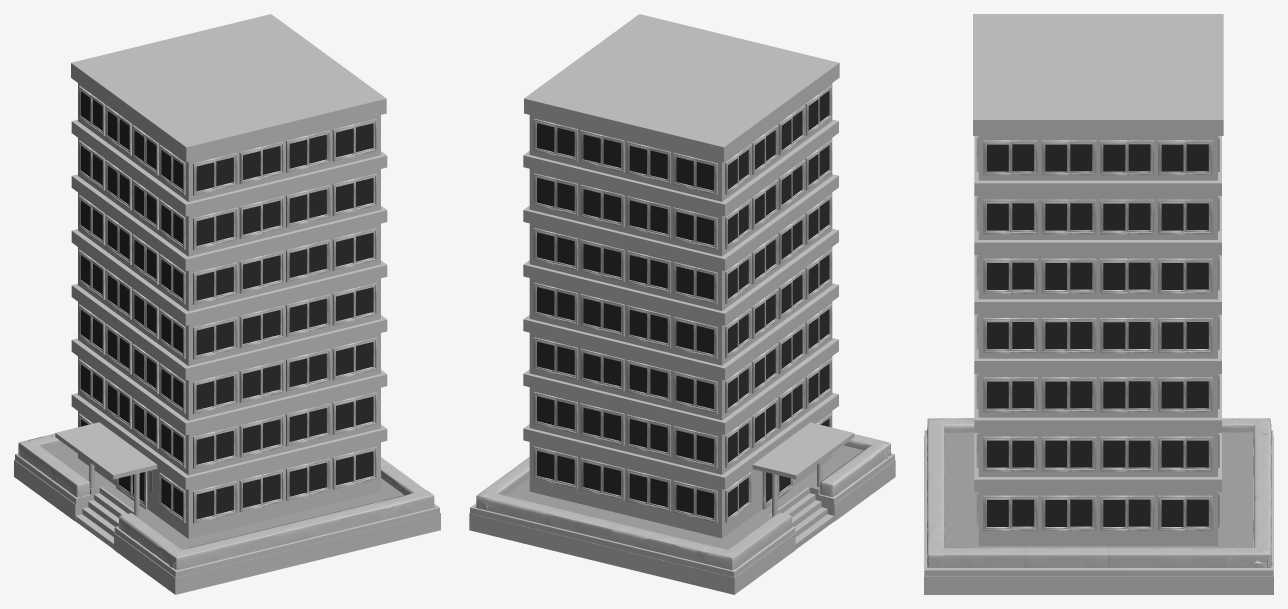
File: corporation_000_mid.fbx
3 views of the same model, side by side, from view 1: azimuth 30°, elevation 25°; view 2: azimuth 150°, elevation 25°; view 3: azimuth 270°, elevation 25° (orthographic). The views are drawn at different scales.
Visible parts, largest first — view 1: polySurface33; view 2: polySurface33; view 3: polySurface33.
Boxes of the visible parts, box(x1,y1,x2,y2) form: polySurface33: box(14, 14, 440, 594); polySurface33: box(469, 14, 895, 594); polySurface33: box(924, 14, 1273, 594).
Bounding box in the file's own units: 10.28 × 15.06 × 10.42.
